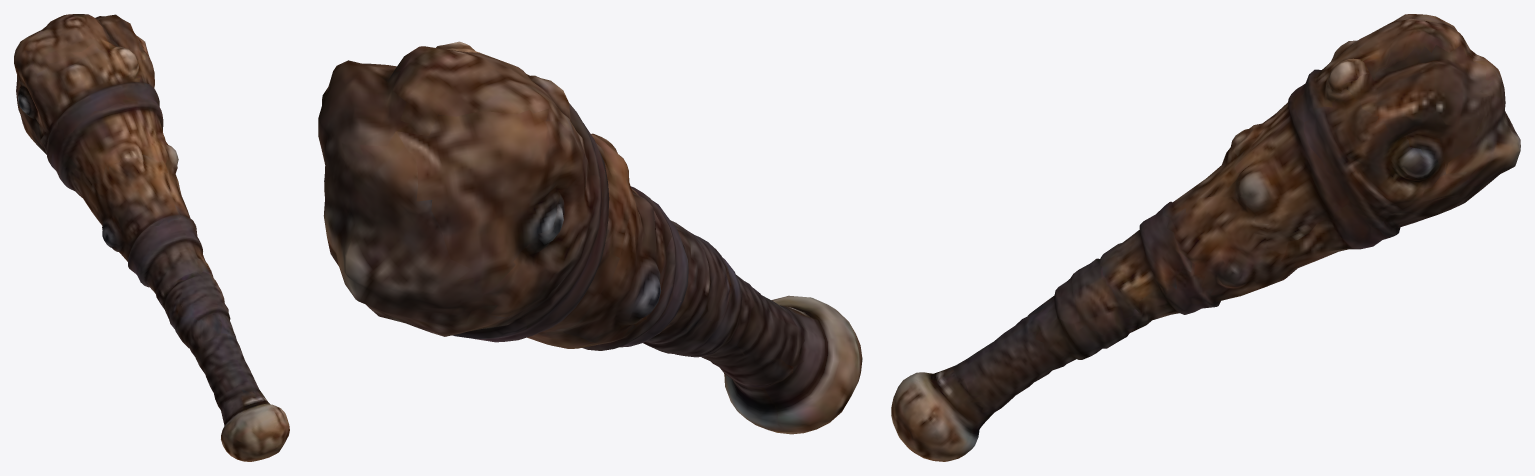
Rendered from weap_club.glb.
3 views of the same model, side by side, from view 1: azimuth 30°, elevation 25°; view 2: azimuth 150°, elevation 25°; view 3: azimuth 270°, elevation 25° (orthographic). The views are drawn at different scales.
Visible parts, largest first — view 1: tripo_node_30d561f4-98e4-478f-b591-a1a9d8cc0631; view 2: tripo_node_30d561f4-98e4-478f-b591-a1a9d8cc0631; view 3: tripo_node_30d561f4-98e4-478f-b591-a1a9d8cc0631.
Part boxes in pixels (<box>): tripo_node_30d561f4-98e4-478f-b591-a1a9d8cc0631: <box>14,14,289,461</box>; tripo_node_30d561f4-98e4-478f-b591-a1a9d8cc0631: <box>318,41,862,434</box>; tripo_node_30d561f4-98e4-478f-b591-a1a9d8cc0631: <box>891,14,1520,461</box>.
Bounding box in the file's own units: 0.2275 × 0.56 × 0.7393.
1 material, 1 textured.
